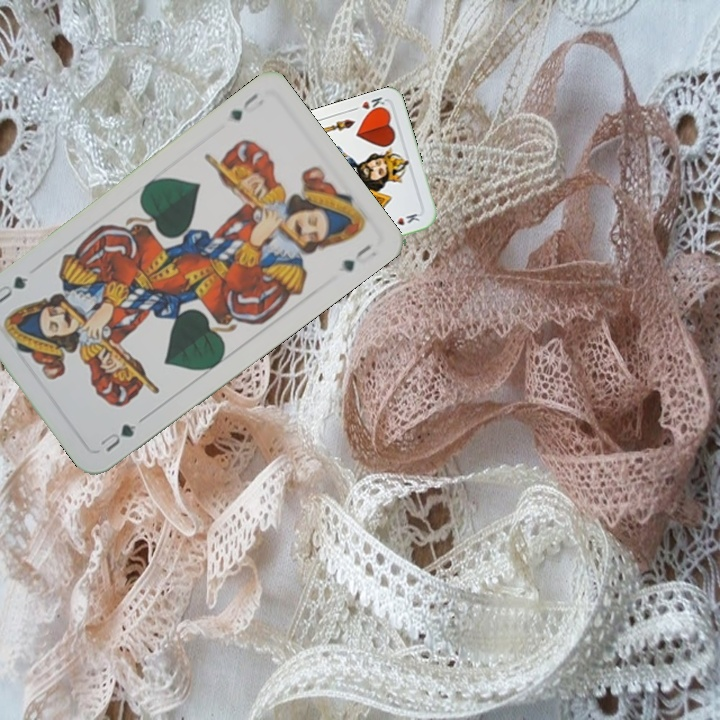GU: (96, 419, 139, 455), (226, 89, 261, 124)
HK: (347, 93, 389, 117)
